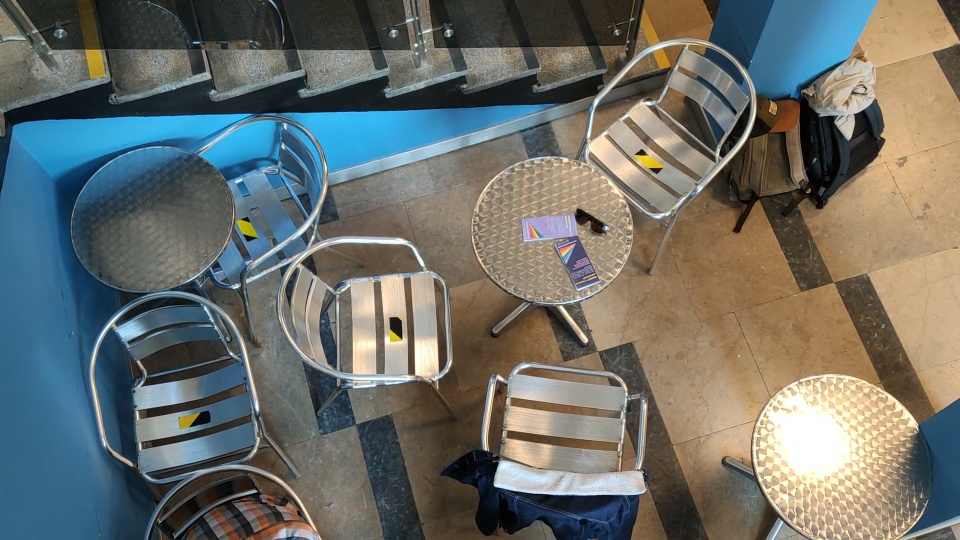chair: (578, 34, 756, 282), (85, 291, 300, 481), (191, 115, 378, 308), (272, 237, 461, 412), (464, 357, 650, 525)
table: (721, 373, 937, 540), (466, 148, 641, 349), (67, 144, 240, 302)
